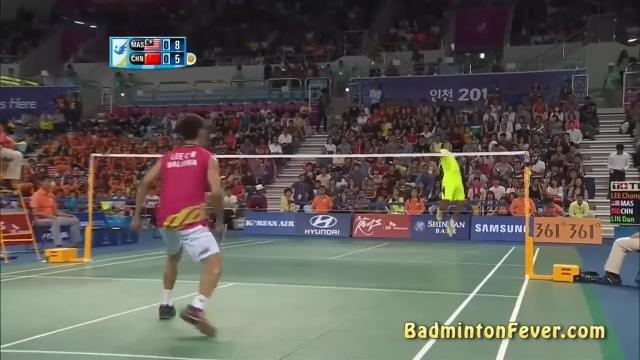Shuttlecock: (449, 43, 458, 52)
